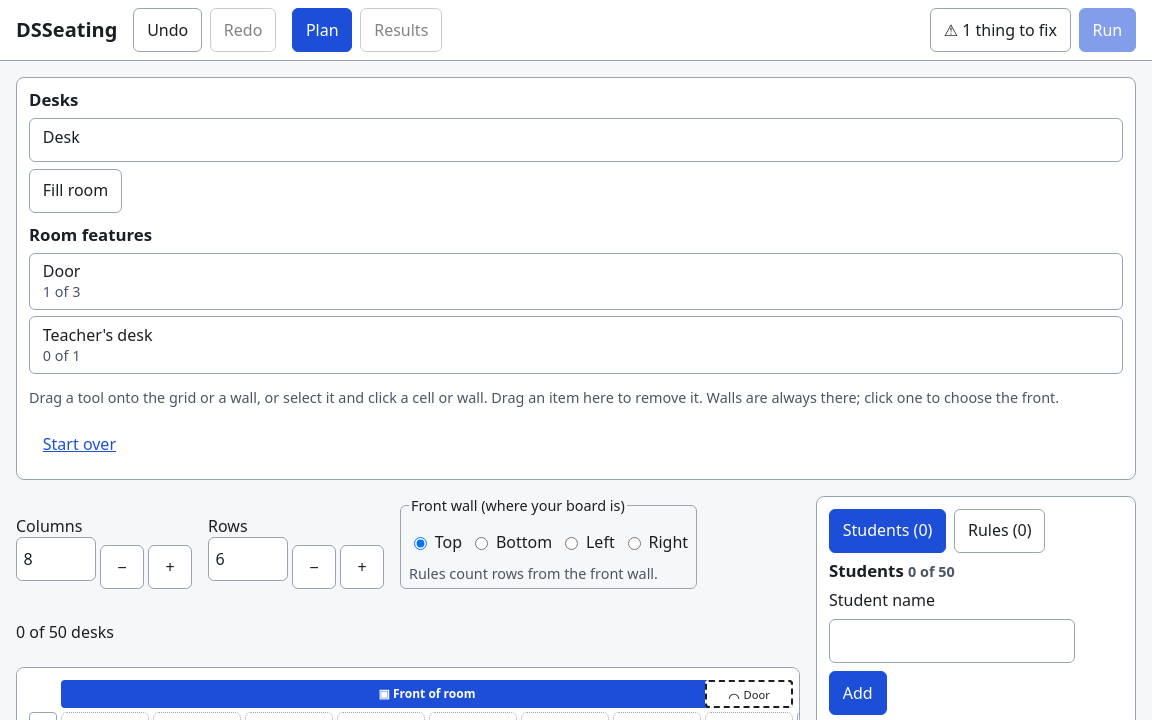
Test: Plan mode › confirms a shrink that would cut off a door and names it
Replace the text in the number field labelled "Columns" with "5" at (56, 559), box [16,537,96,581]
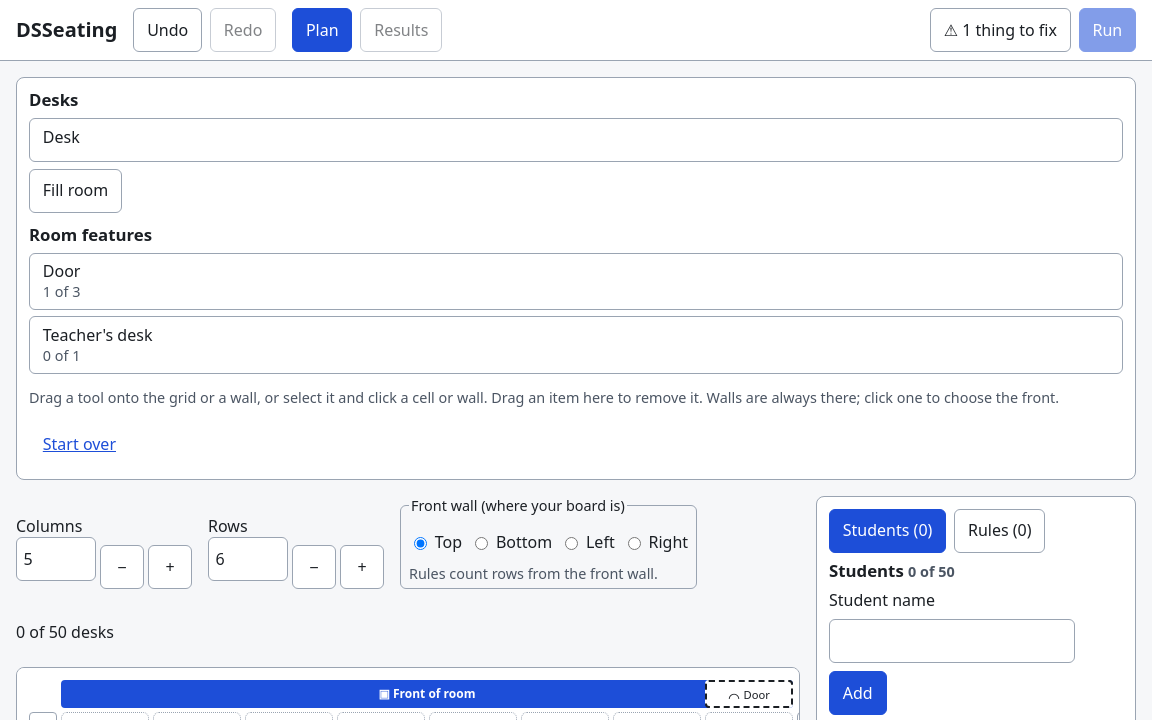
Leave the number field labelled "Columns", box [16,537,96,581]
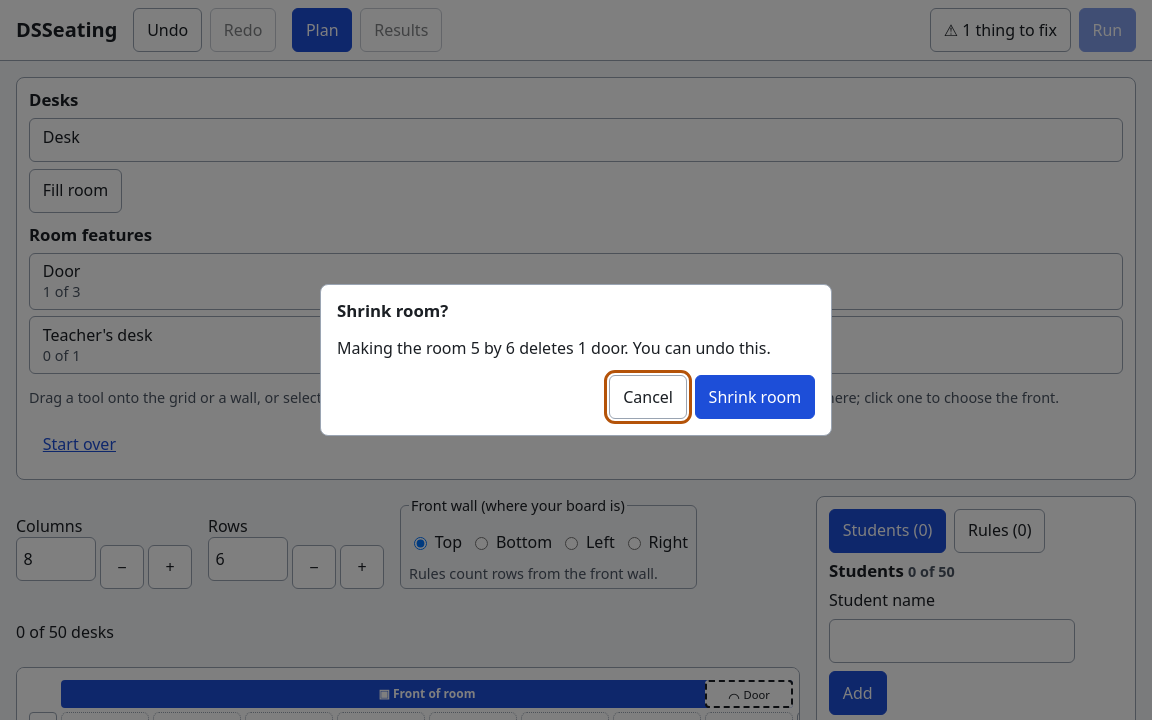
Now the text "Making the room 5 by 6 deletes 1 door. You can undo this." is shown, box [337,337,815,359]
